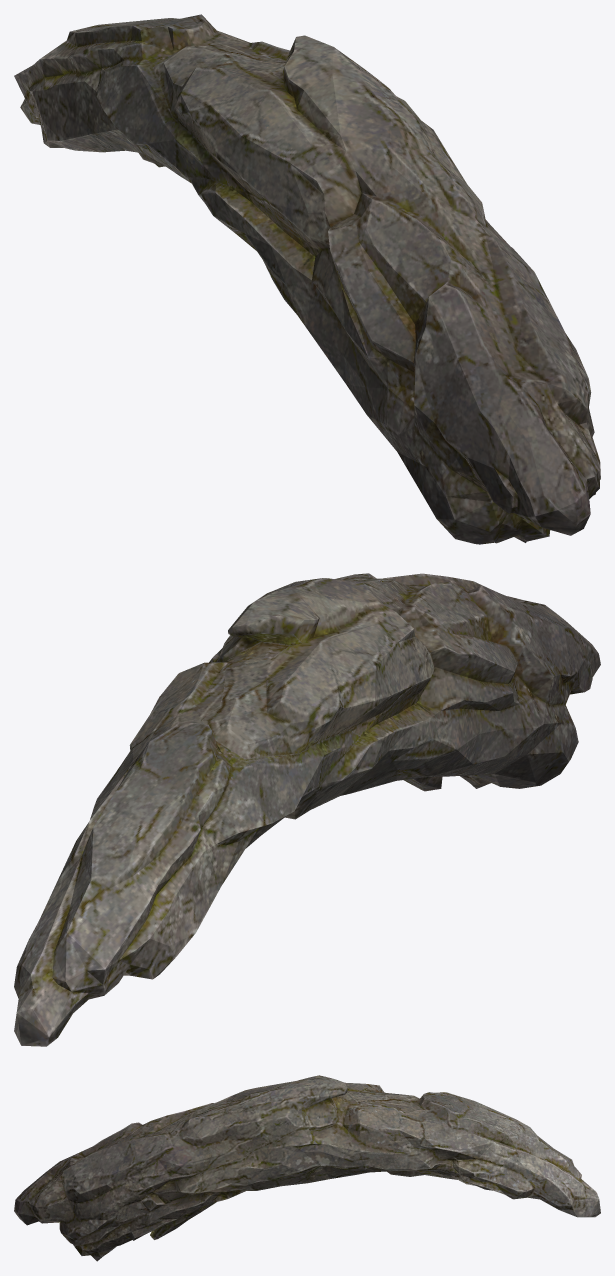
File: bg_anh_mirrorv_rock01_02_sm_old.FBX
The picture shows the model from 3 angles, top to bottom: view 1: azimuth 30°, elevation 25°; view 2: azimuth 150°, elevation 25°; view 3: azimuth 270°, elevation 25°; orthographic projection. The views are drawn at different scales.
Visible parts, largest first — view 1: bg_anh_mirrorv_rock01_02_sm_old; view 2: bg_anh_mirrorv_rock01_02_sm_old; view 3: bg_anh_mirrorv_rock01_02_sm_old.
Boxes of the visible parts, box(x1,y1,x2,y2) form: bg_anh_mirrorv_rock01_02_sm_old: box(14, 14, 600, 544); bg_anh_mirrorv_rock01_02_sm_old: box(14, 573, 600, 1046); bg_anh_mirrorv_rock01_02_sm_old: box(14, 1075, 600, 1261).
Bounding box in the file's own units: 273 × 484 × 1422.
